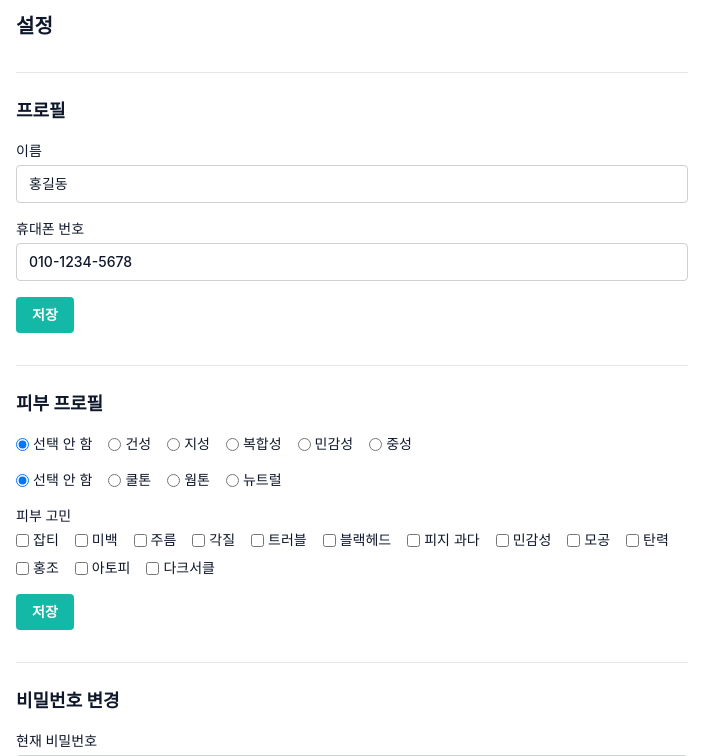
Test: 프로필 서버 필드 오류는 입력 아래에 보인다
Click the button "저장" below "휴대폰 번호" at (45, 315), box x1=16 y1=297 x2=74 y2=333
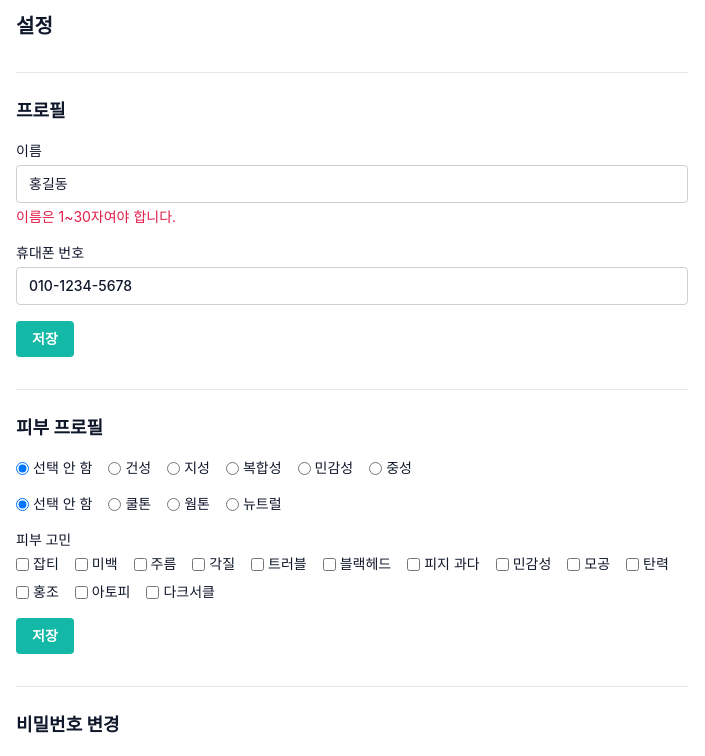
expect the text "이름은 1~30자여야 합니다." is shown: met, box x1=16 y1=208 x2=176 y2=225
